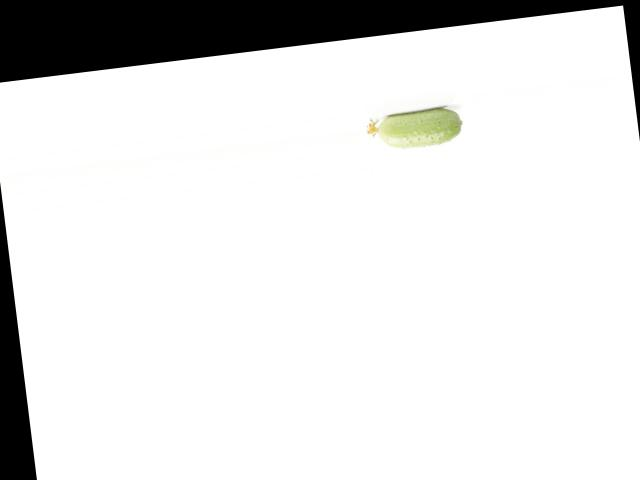cucumber: (366, 104, 465, 152)
